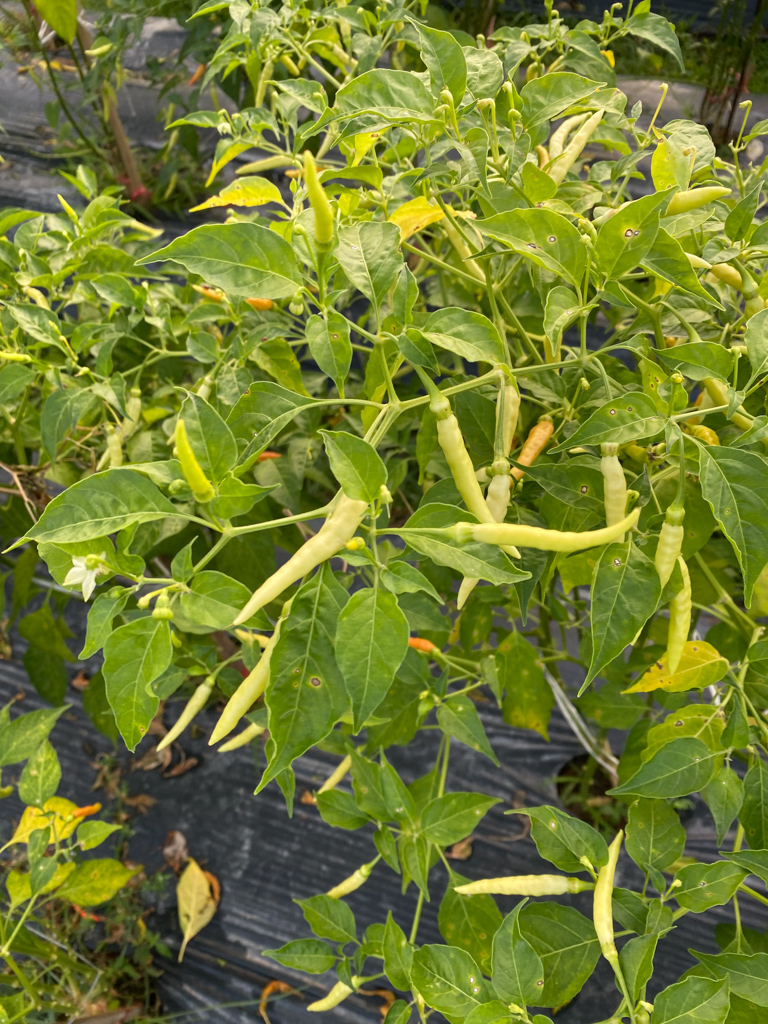frog-eye leafspot: (287, 659, 327, 695), (608, 404, 634, 418), (619, 225, 641, 241), (466, 974, 481, 995), (693, 877, 710, 895), (669, 717, 687, 731), (608, 555, 624, 570), (649, 846, 663, 861), (574, 483, 590, 496), (530, 977, 547, 989), (523, 237, 538, 250), (544, 232, 560, 244), (720, 504, 733, 518), (241, 383, 252, 399), (647, 375, 658, 390), (529, 719, 545, 729), (547, 819, 559, 832), (328, 330, 339, 342), (638, 818, 646, 831)
